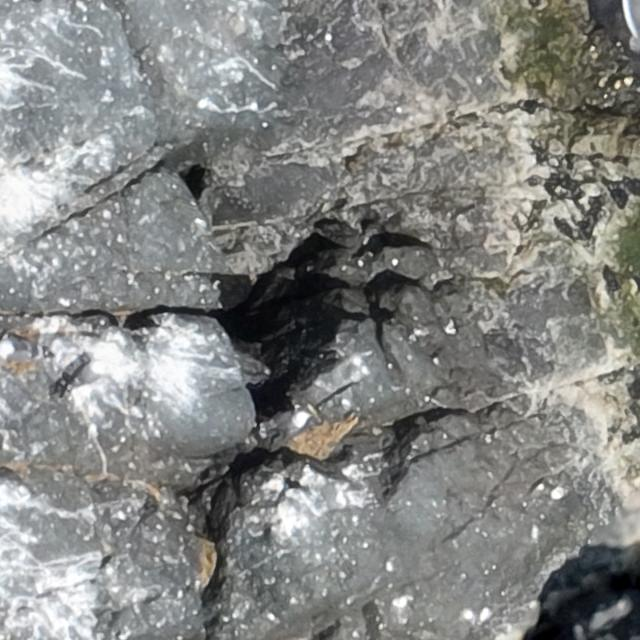umineko: (264, 408, 310, 446), (0, 334, 53, 360), (74, 358, 108, 387)
